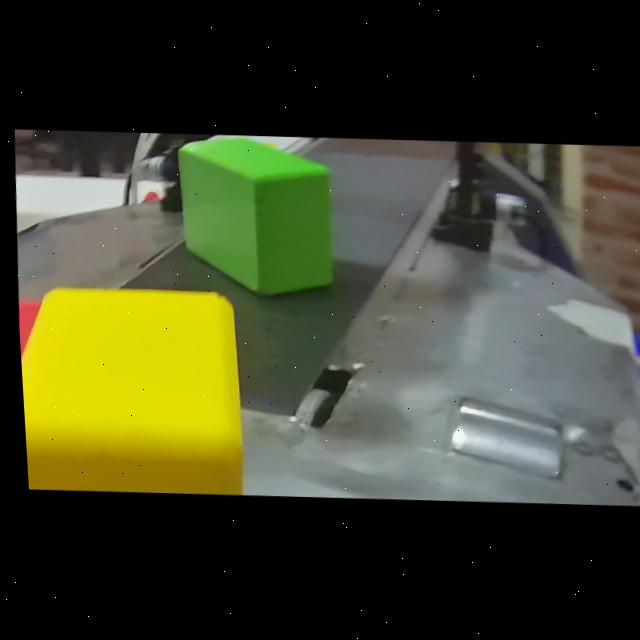greenBox: (165, 133, 350, 305)
redBox: (13, 288, 50, 489)
yellowBox: (13, 271, 249, 496)
